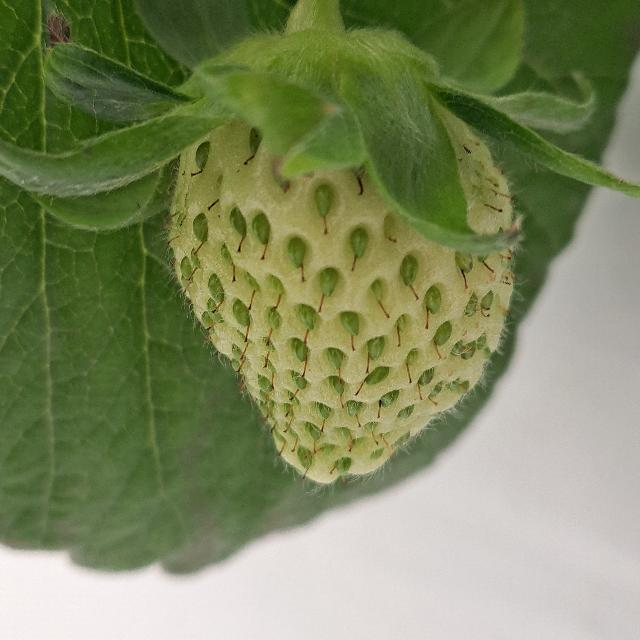Health_25: (168, 93, 512, 483)
